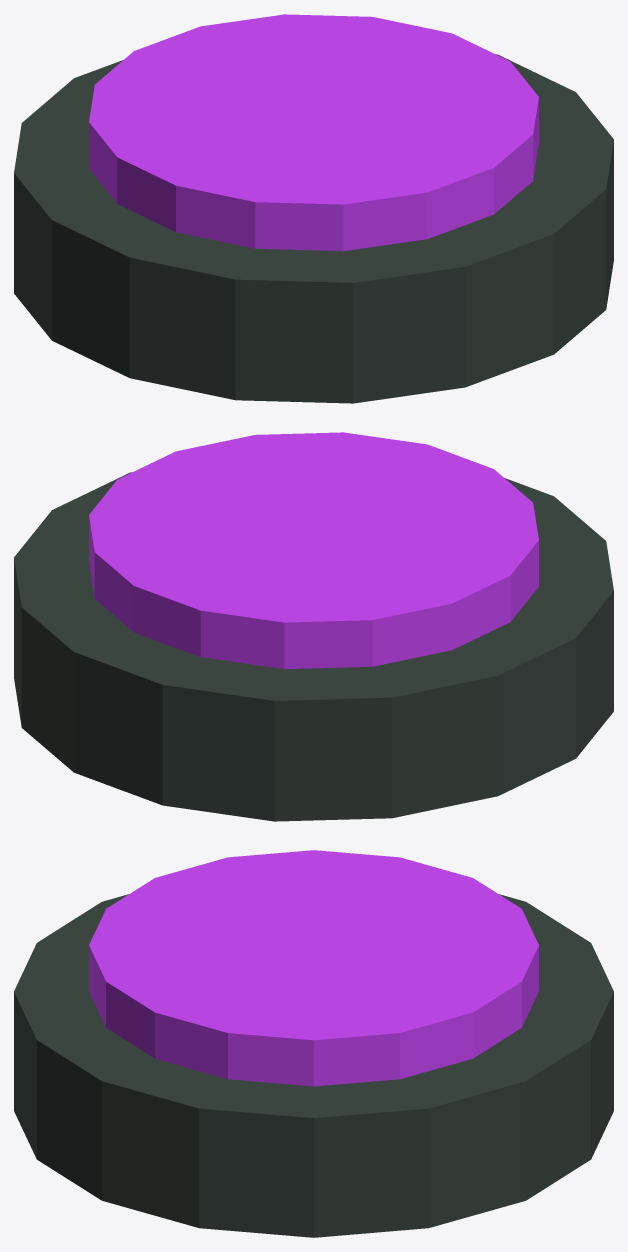
File: signal-purple.glb
The picture shows the model from 3 angles, top to bottom: view 1: azimuth 30°, elevation 25°; view 2: azimuth 150°, elevation 25°; view 3: azimuth 270°, elevation 25°; orthographic projection.
Visible parts, largest first — view 1: Signal base, Signal lens; view 2: Signal base, Signal lens; view 3: Signal base, Signal lens.
Boxes of the visible parts, box(x1,y1,x2,y2) form: Signal base: box(14, 54, 613, 403); Signal lens: box(89, 14, 538, 251); Signal base: box(14, 472, 613, 821); Signal lens: box(89, 432, 538, 669); Signal base: box(14, 894, 613, 1237); Signal lens: box(89, 850, 538, 1086).
Size of the model in its own units: 0.2 by 0.061 by 0.2.
